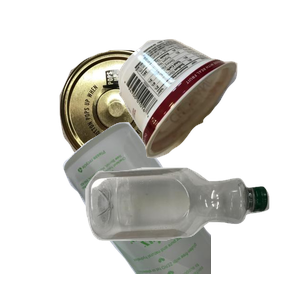glass: (60, 120, 300, 300)
metal: (57, 47, 227, 211)
plastic: (83, 165, 300, 300)
trash: (116, 36, 300, 187)
